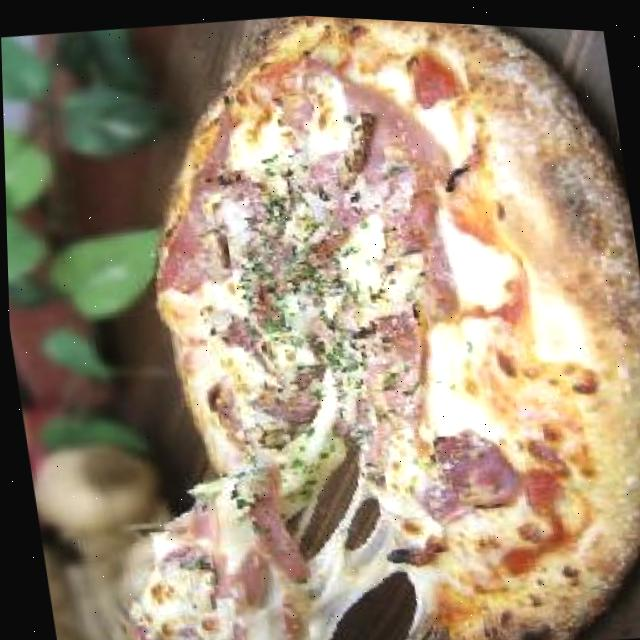汉堡快餐: (91, 4, 640, 640)
